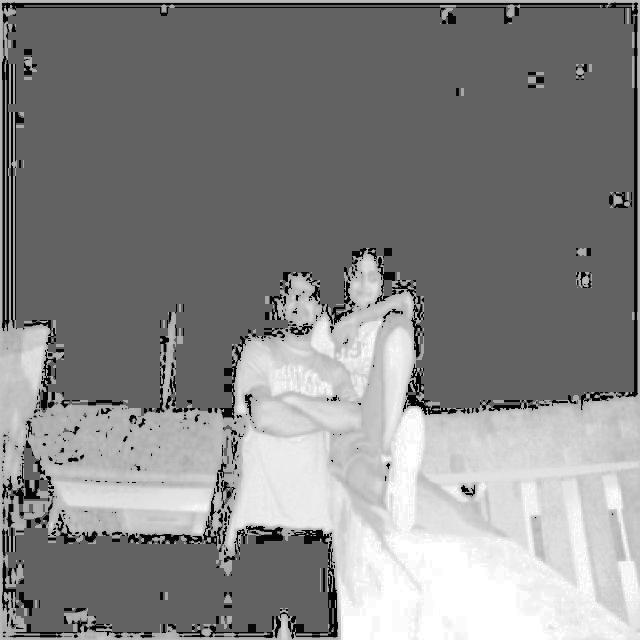Person: (227, 267, 367, 640), (308, 239, 430, 530)
